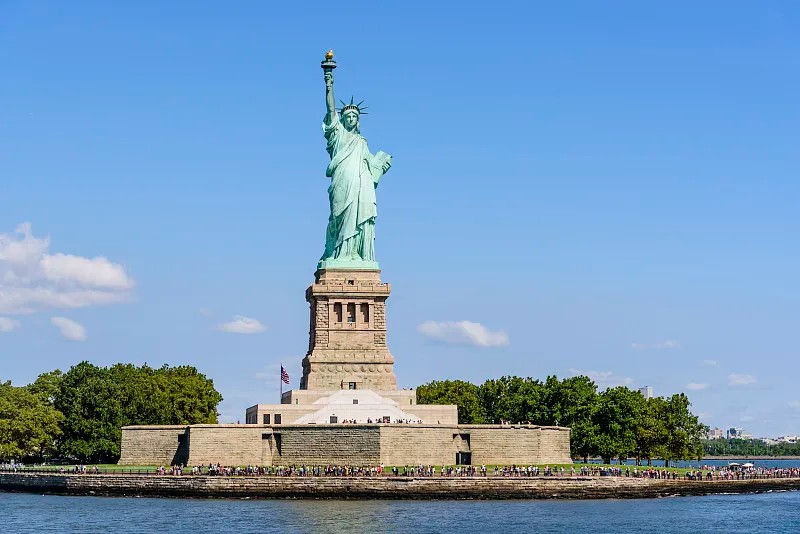SL: (300, 49, 397, 389)
